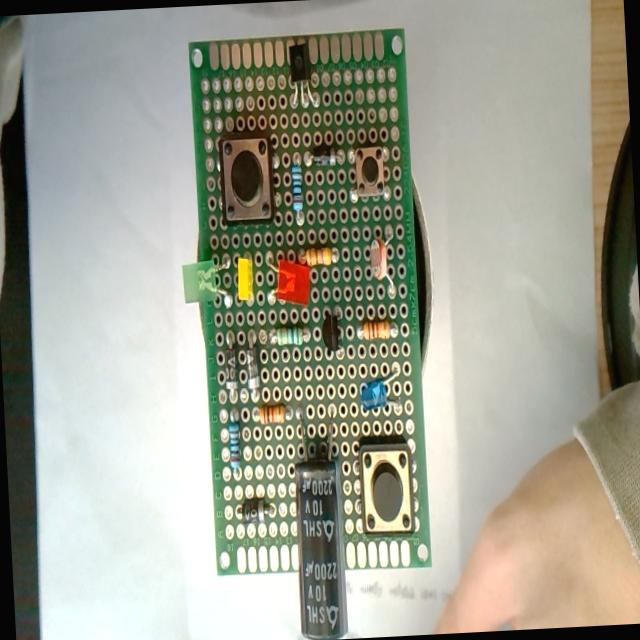Electrolytic capacitor: (290, 422, 350, 637)
cds: (366, 235, 394, 292)
diode: (223, 341, 239, 402), (238, 498, 275, 524), (246, 338, 262, 398), (307, 145, 336, 166)
led: (274, 256, 312, 308), (360, 366, 402, 410), (181, 259, 219, 305), (236, 256, 254, 302)
resistor: (290, 162, 304, 219), (228, 417, 242, 473), (358, 320, 394, 340), (274, 326, 310, 346), (304, 246, 333, 266), (258, 404, 286, 424)
switch: (359, 442, 416, 538), (218, 132, 276, 225), (354, 144, 388, 198)
transistor: (286, 39, 316, 109), (320, 304, 346, 358)
